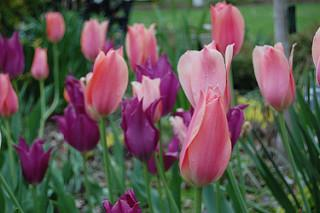tulip: (176, 88, 232, 187), (176, 43, 230, 109), (251, 42, 296, 108), (84, 47, 126, 116), (119, 99, 164, 159), (125, 23, 160, 73), (15, 137, 50, 184), (212, 2, 245, 51), (0, 31, 24, 76), (0, 73, 19, 119), (31, 47, 50, 78)
